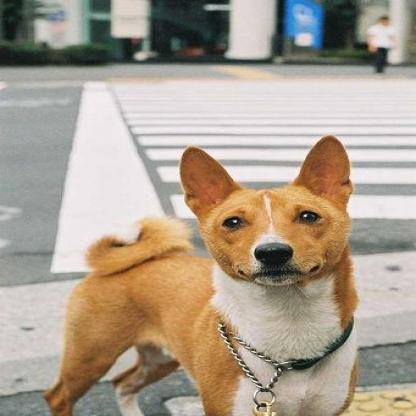basenji: (44, 134, 356, 413)
